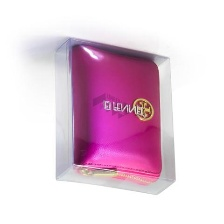plastic_box: (45, 32, 183, 203)
